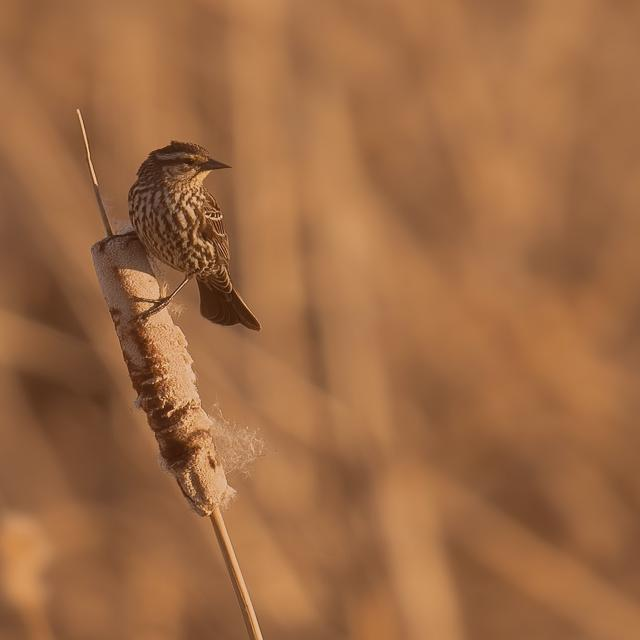brid: (88, 114, 350, 388)
